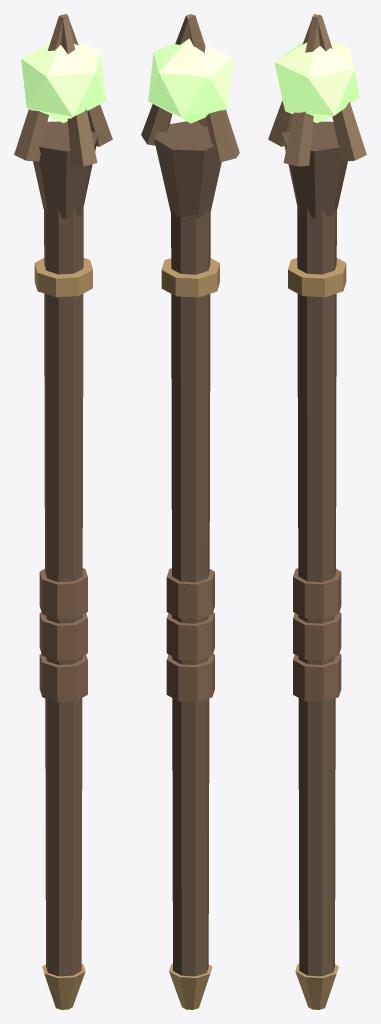
Rendered from baston_roble.glb.
3 views of the same model, side by side, from view 1: azimuth 30°, elevation 25°; view 2: azimuth 150°, elevation 25°; view 3: azimuth 330°, elevation 25° (orthographic).
Parts seen in each view (by area): view 1: baston_roble; view 2: baston_roble; view 3: baston_roble.
Boxes of the visible parts, x1,y1,x2,y2 form: baston_roble: (14, 14, 112, 1009); baston_roble: (141, 14, 239, 1009); baston_roble: (268, 14, 366, 1009).
Bounding box in the file's own units: 0.1605 × 1.59 × 0.1371.
